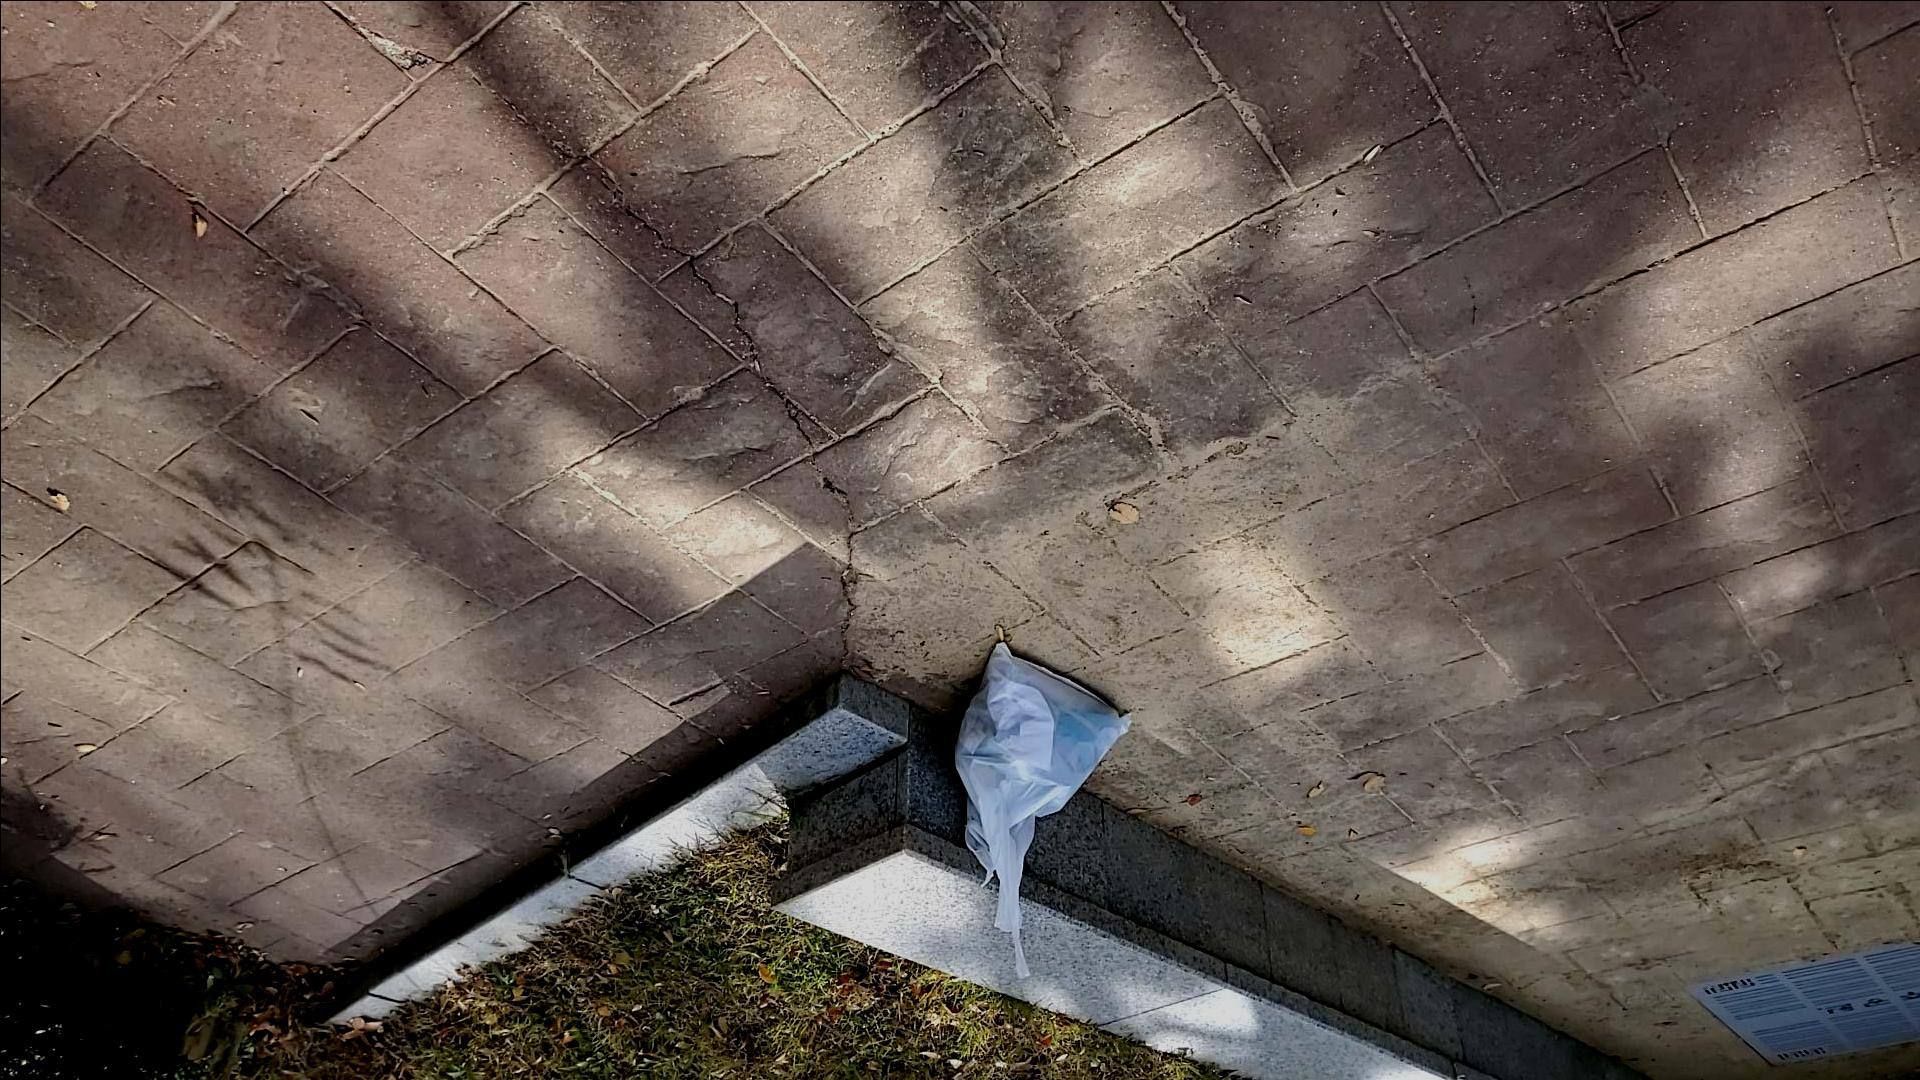white_bag: (938, 626, 1145, 996)
